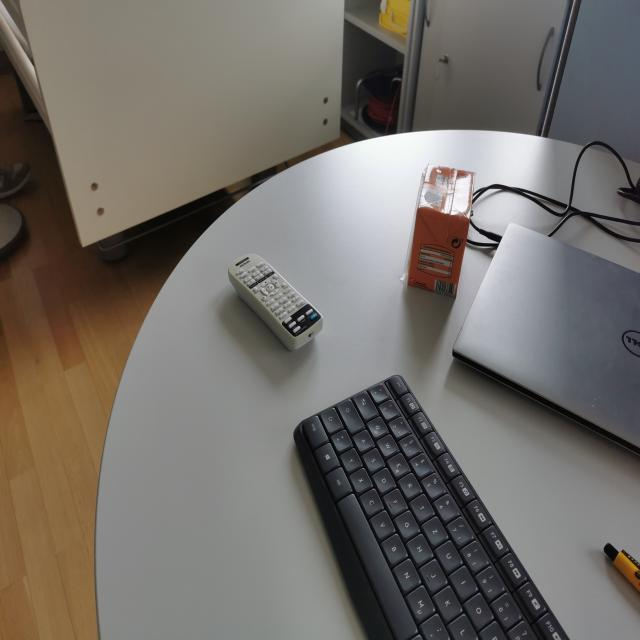remote: (225, 247, 326, 354)
